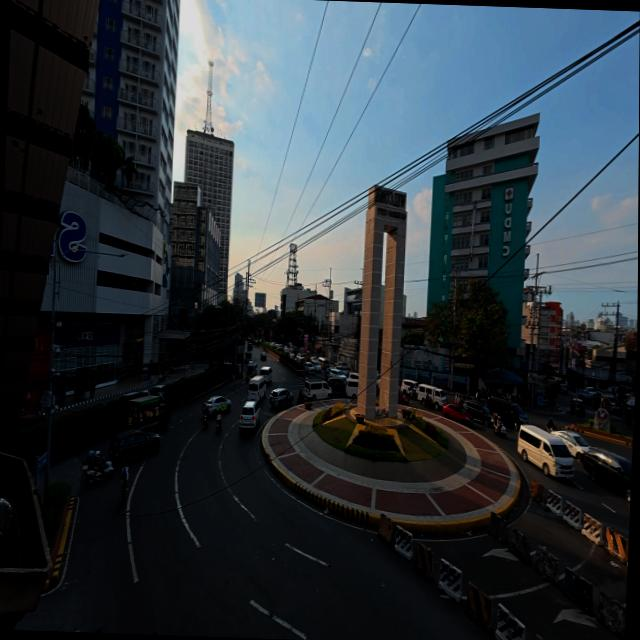car: (107, 425, 163, 463), (236, 407, 258, 431)
vans: (517, 422, 580, 477)
